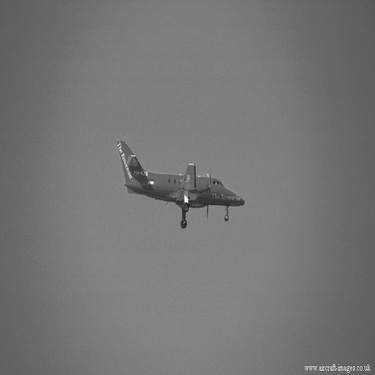airplane: (103, 132, 253, 239)
